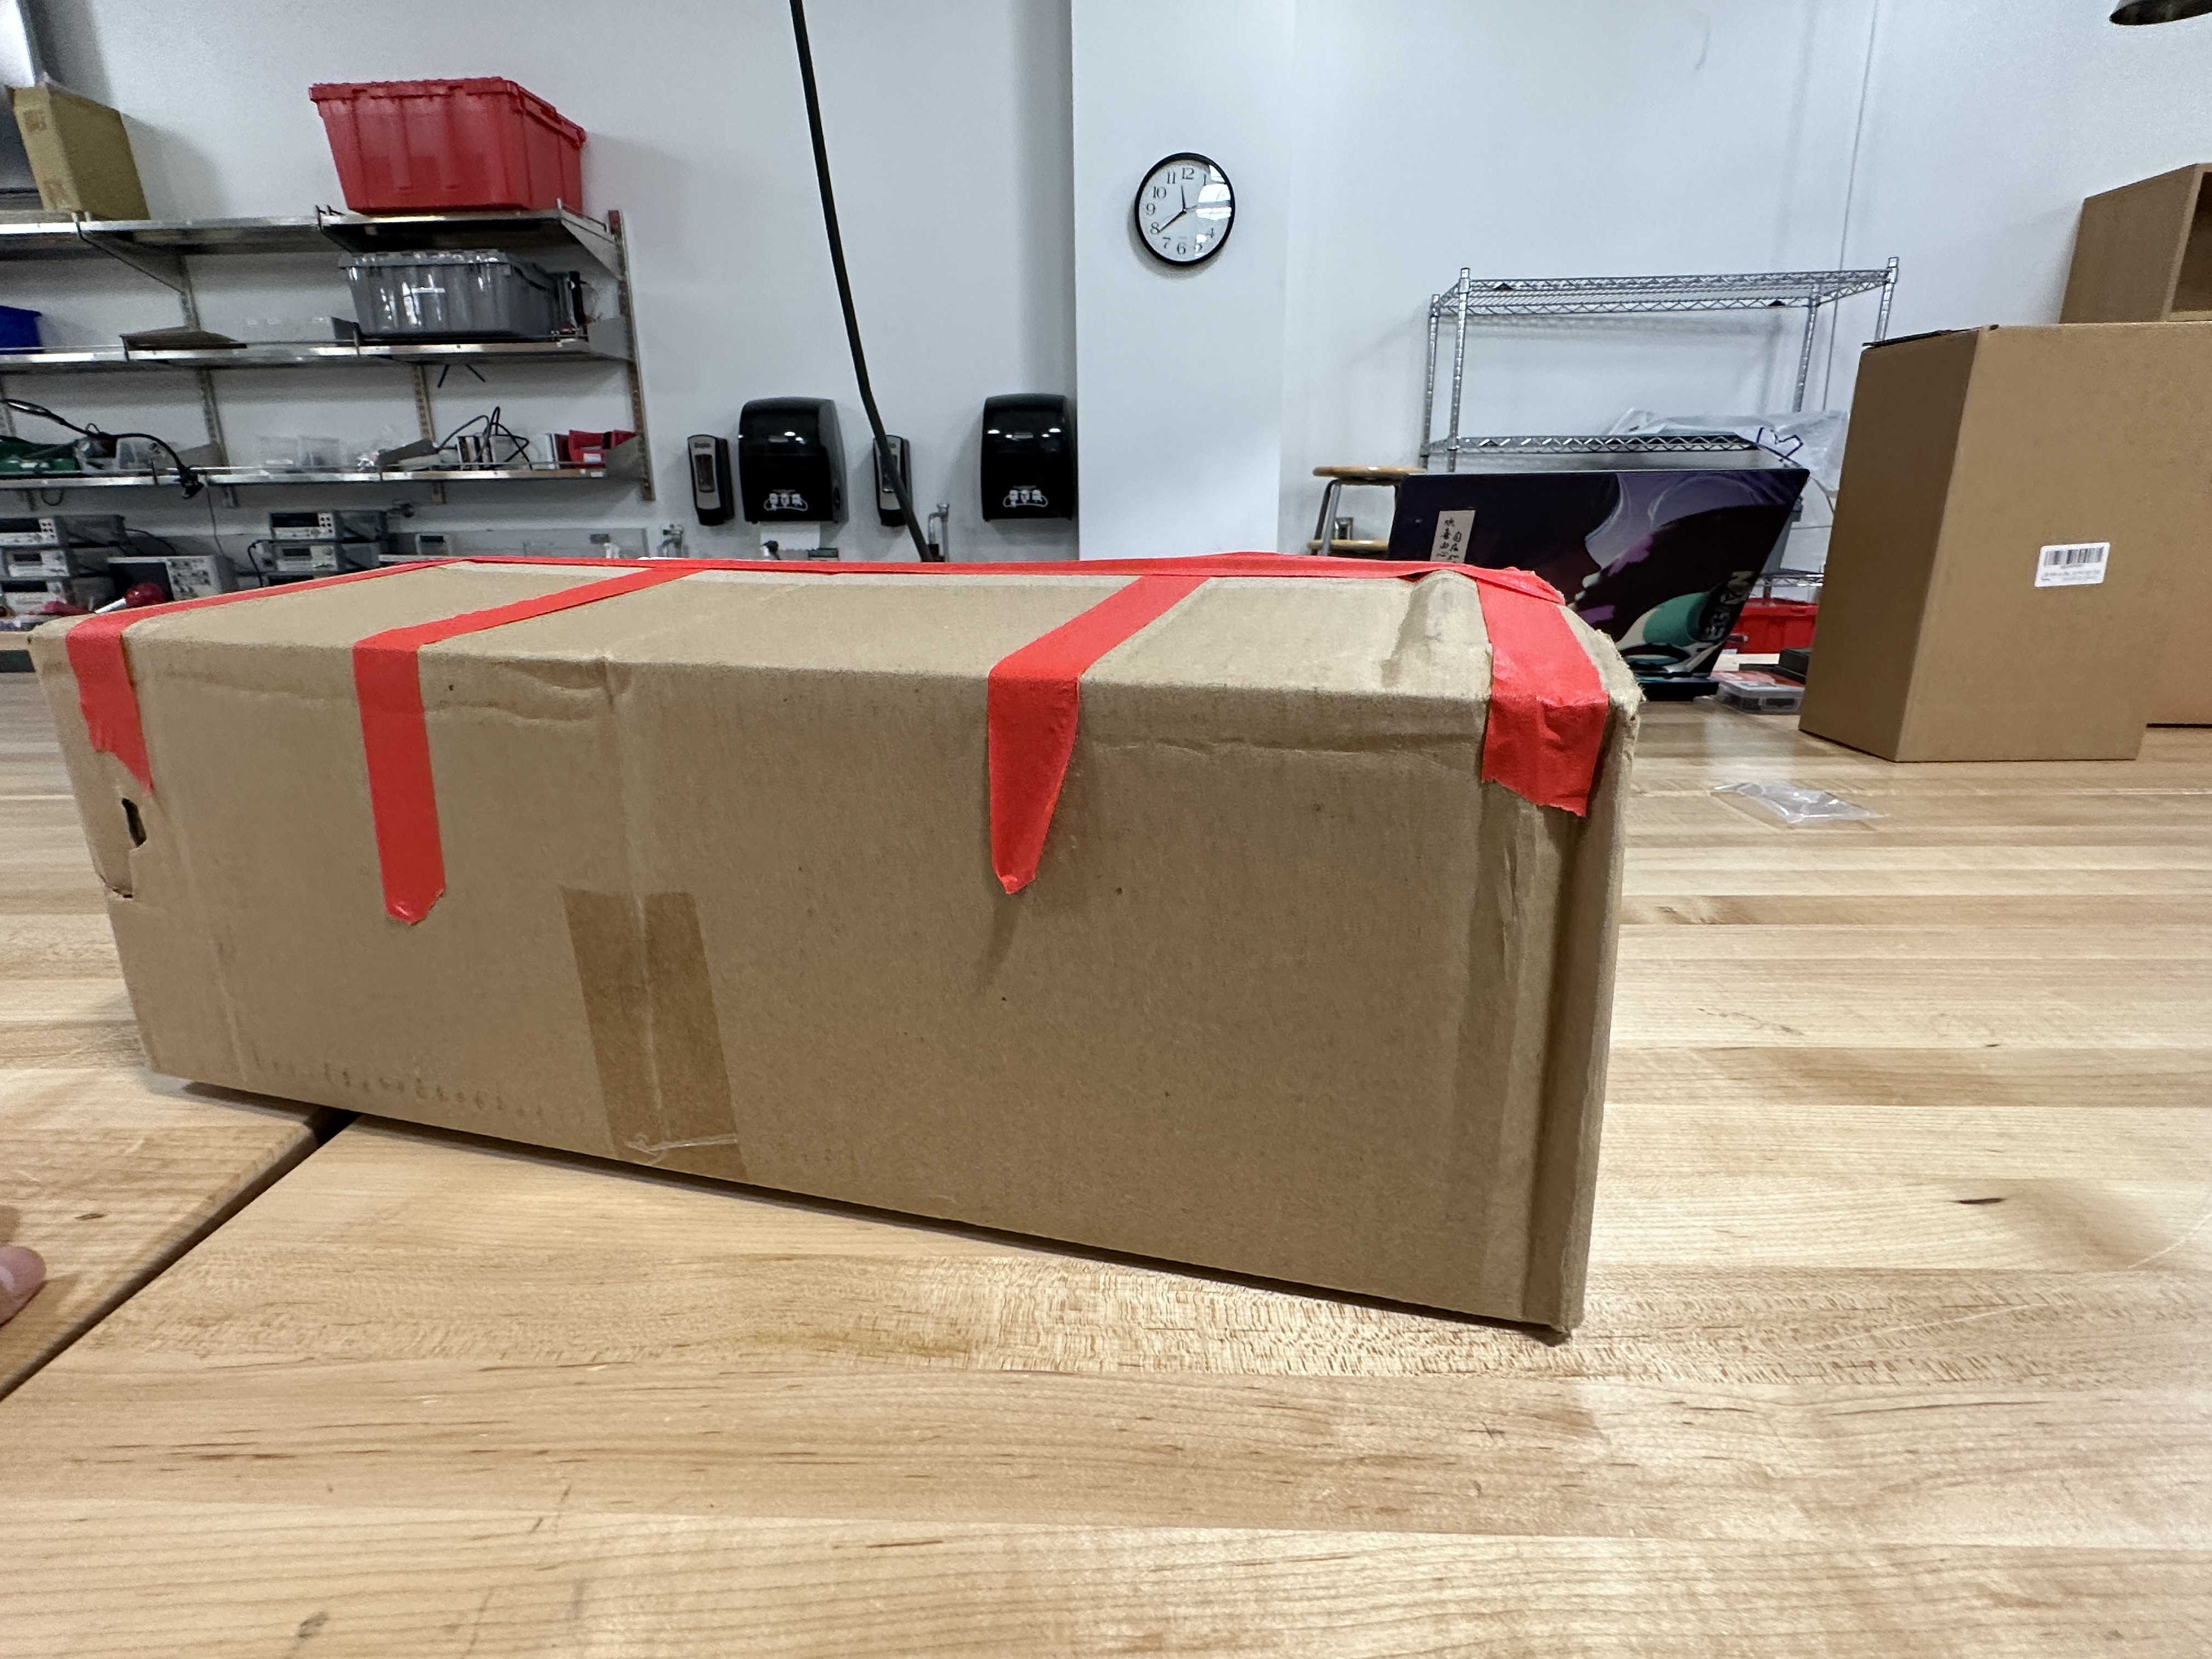Box_Obstacle: (24, 538, 1656, 1363)
